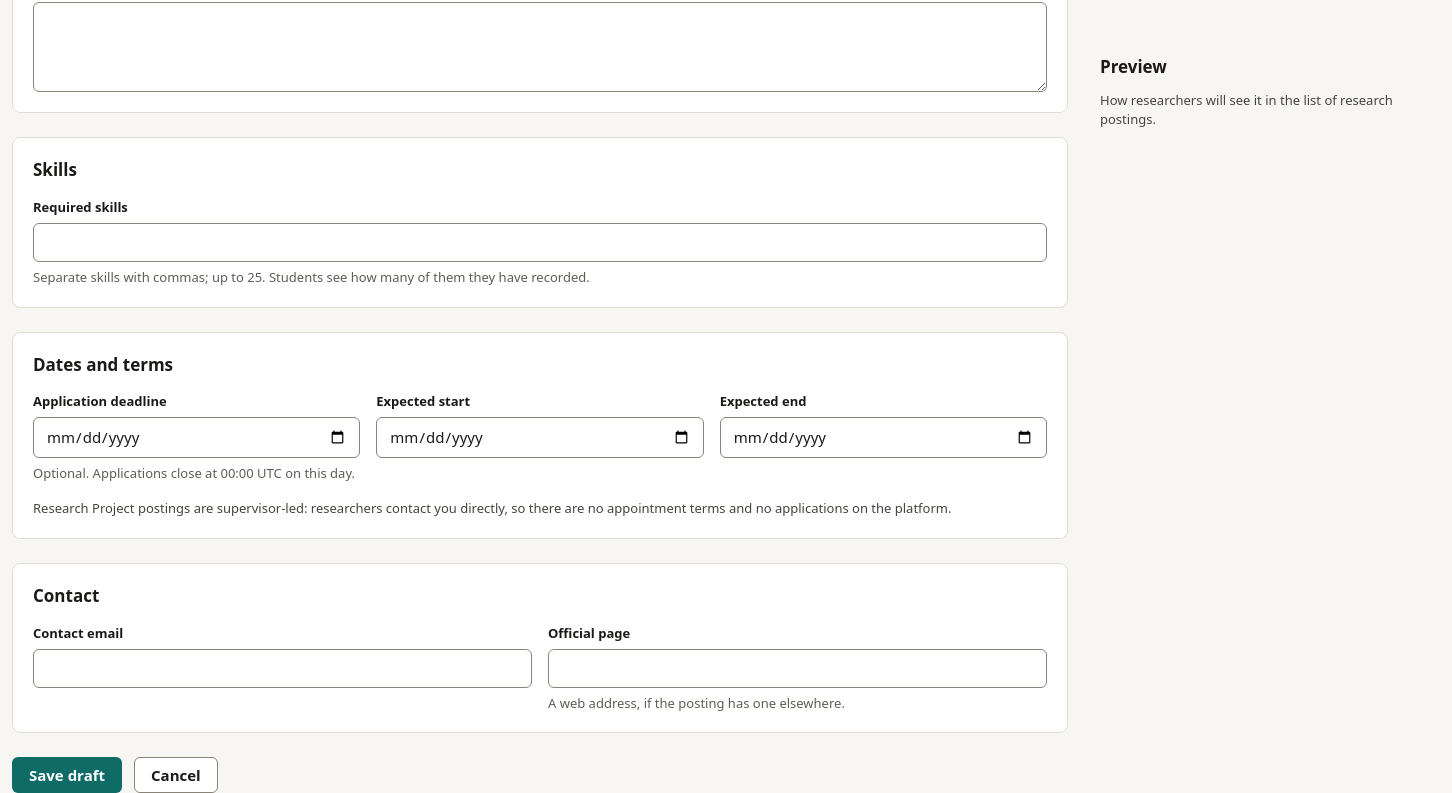
Test case: the posting editor › explains what to fix before sending anything, and moves focus to the first field
(page scrolled)
Click the button "Save draft": click(67, 775) 12,757 -> 122,792
(page scrolled)
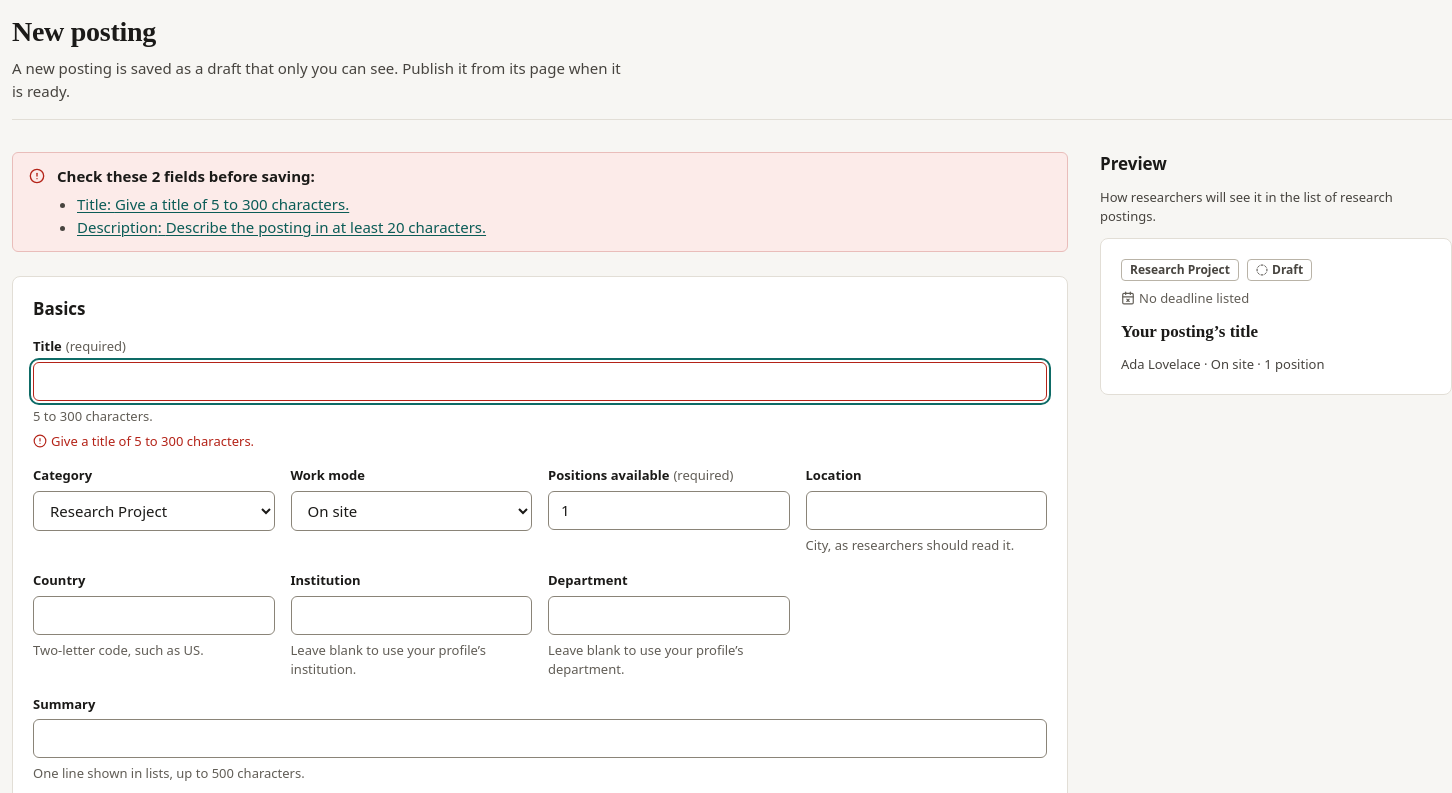
Expected: the message shows "Check these 2 fields before saving:", 57,166 -> 315,186
Expected: the message shows "Title: Give a title of 5 to 300 characters.", 12,152 -> 1068,252
